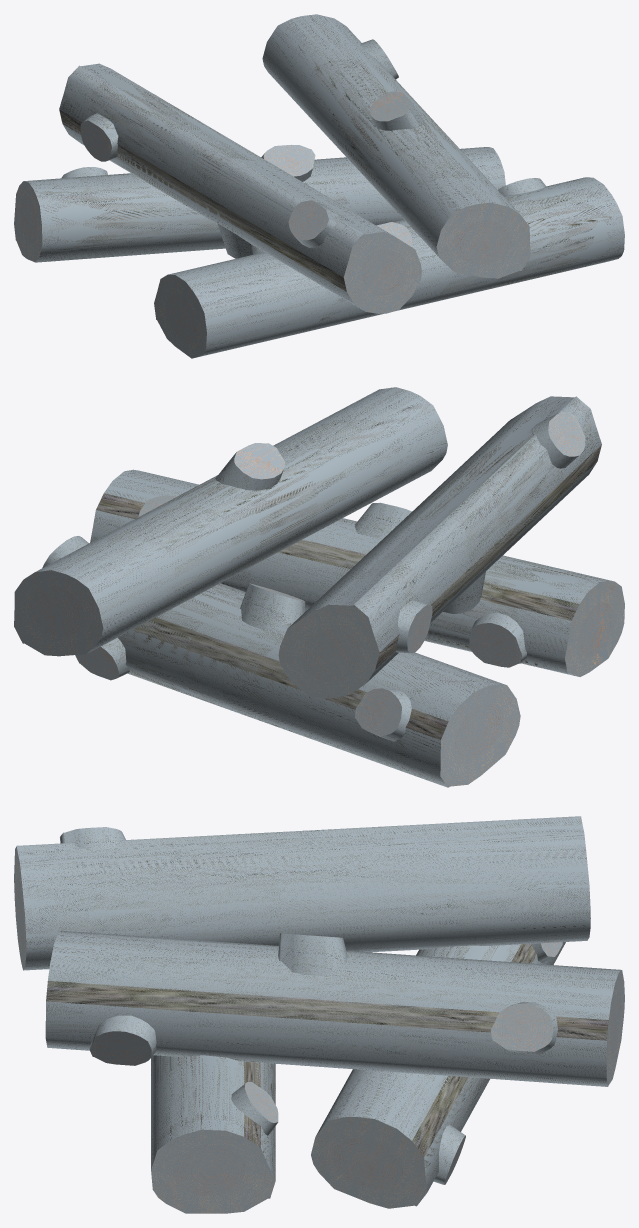
Rendered from Fire Logs.fbx.
The picture shows the model from 3 angles, top to bottom: view 1: azimuth 30°, elevation 25°; view 2: azimuth 150°, elevation 25°; view 3: azimuth 270°, elevation 25°; orthographic projection. The views are drawn at different scales.
Visible parts, largest first — view 1: Group4, Group3, Group1, Group2; view 2: Group3, Group2, Group4, Group1; view 3: Group3, Group4, Group2, Group1.
Part boxes in pixels (<box>): Group4: <box>59,63,421,313</box>; Group3: <box>262,14,530,278</box>; Group1: <box>154,177,624,358</box>; Group2: <box>14,144,505,262</box>; Group3: <box>14,387,447,656</box>; Group2: <box>75,583,520,787</box>; Group4: <box>278,396,601,698</box>; Group1: <box>90,469,624,676</box>; Group3: <box>45,930,624,1086</box>; Group4: <box>14,816,590,970</box>; Group2: <box>311,942,565,1208</box>; Group1: <box>151,1055,278,1213</box>.
Size of the model in its own units: 190 by 72.11 by 188.
